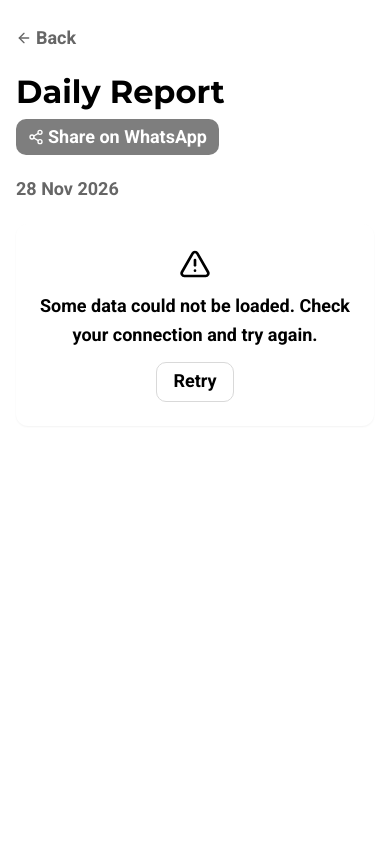
it: DailyReportPage load error vs genuinely empty › retries all four loads and shows the report once they succeed
Check: the text "Some data could not be loaded. Check your connection and try again." is shown, box [40,292,350,350]
Click the button "Retry" at (195, 382), box [156,362,234,402]
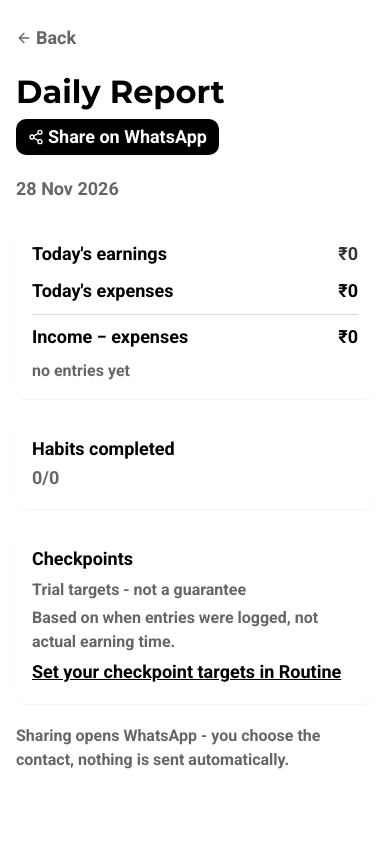
Check: the text "₹0" is shown 3 times, box [338,240,358,269]; [338,277,358,306]; [338,323,358,351]
Check: the text "Some data could not be loaded. Check your connection and try again." is gone
